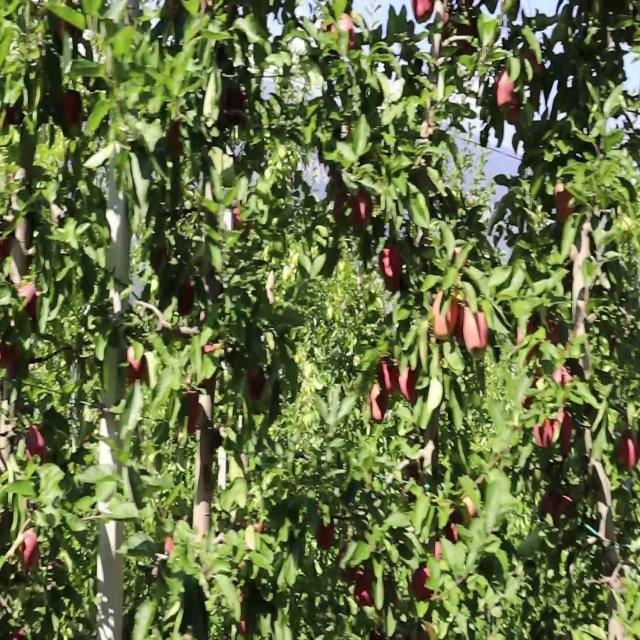apple: (460, 305, 490, 356), (496, 71, 522, 126), (432, 298, 459, 345), (344, 568, 374, 610), (328, 14, 357, 52), (348, 191, 373, 231), (552, 412, 575, 455), (516, 319, 539, 361), (352, 568, 374, 610), (556, 184, 577, 226), (368, 383, 389, 425), (184, 391, 203, 437), (540, 497, 572, 524), (456, 21, 479, 57), (404, 462, 424, 503), (380, 248, 404, 281), (224, 92, 247, 126), (128, 348, 148, 386), (620, 433, 640, 471), (64, 92, 84, 130), (332, 184, 350, 226), (316, 519, 336, 555), (20, 533, 40, 569), (552, 497, 575, 528), (0, 341, 22, 373), (520, 49, 546, 76), (412, 568, 432, 603), (400, 369, 419, 405), (20, 284, 39, 320), (380, 362, 400, 396), (248, 369, 266, 405), (28, 426, 47, 459), (540, 490, 563, 517), (532, 419, 552, 450), (552, 362, 574, 389), (412, 0, 433, 27), (168, 120, 184, 155), (180, 284, 196, 318), (232, 206, 251, 233), (444, 519, 460, 546), (460, 497, 478, 521), (156, 248, 170, 277), (436, 7, 452, 30), (0, 241, 11, 265), (608, 334, 618, 359), (164, 540, 176, 558), (204, 376, 216, 391), (241, 618, 248, 635), (256, 526, 264, 533)
